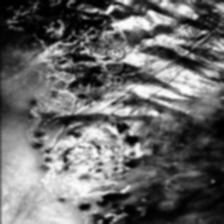Non-Cancerous Skin Condition: (9, 0, 224, 218)
